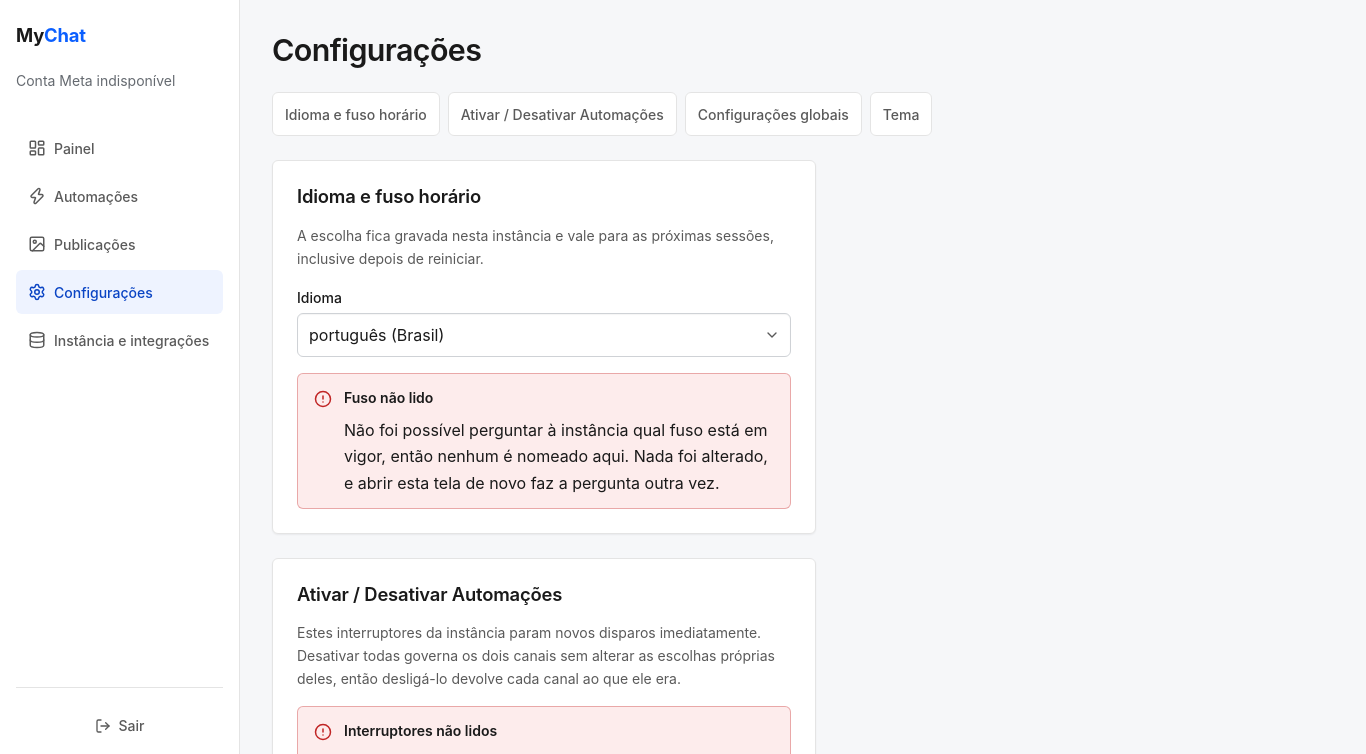
Scenario: REQ-102: the language of the instance drives the interface › stays on the previous language when the instance refuses the choice
expect the heading "Configurações" is shown: met, box [272,32,481,68]
Select "English" in the dropdown at [544, 335], box [297,313,791,357]
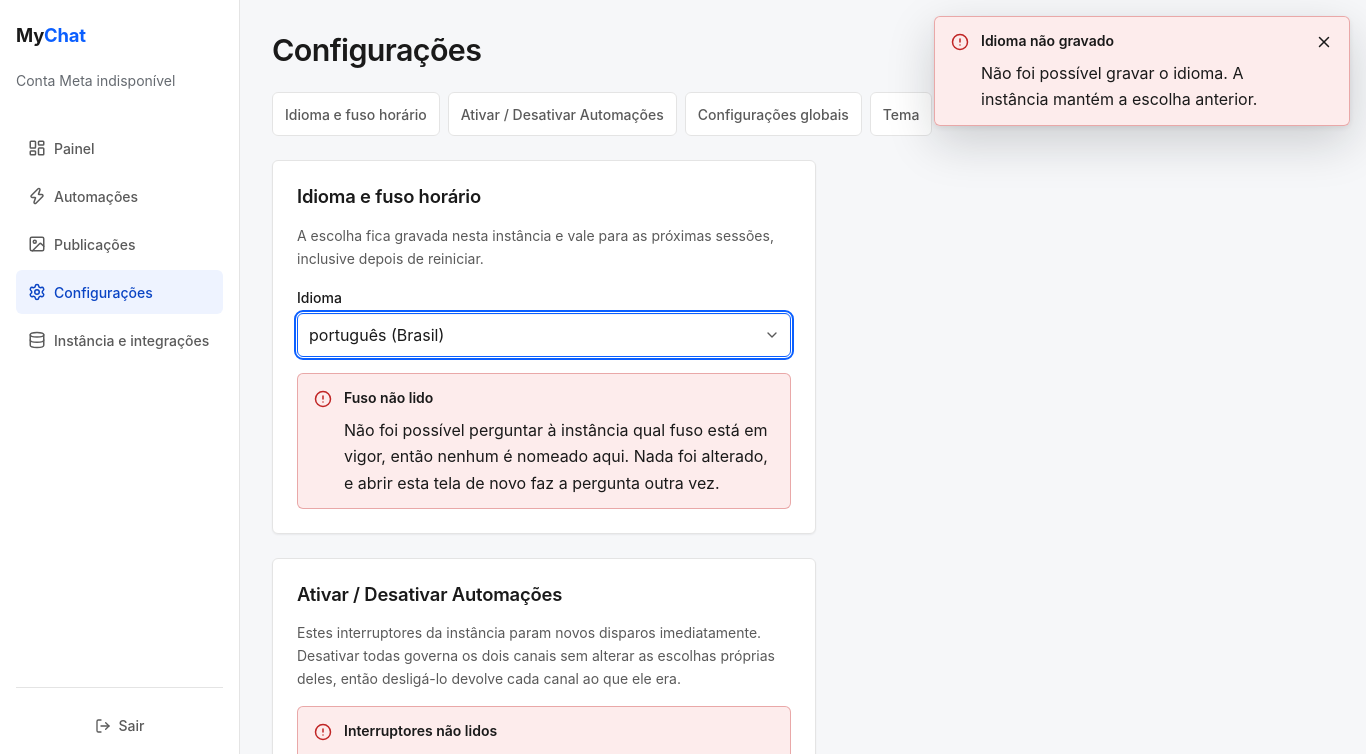
expect the heading "Configurações" is shown: met, box [272,32,481,68]
expect the message that starts with "Idioma não gravado" shows "Não foi possível gravar o idioma": met, box [981,63,1257,110]
